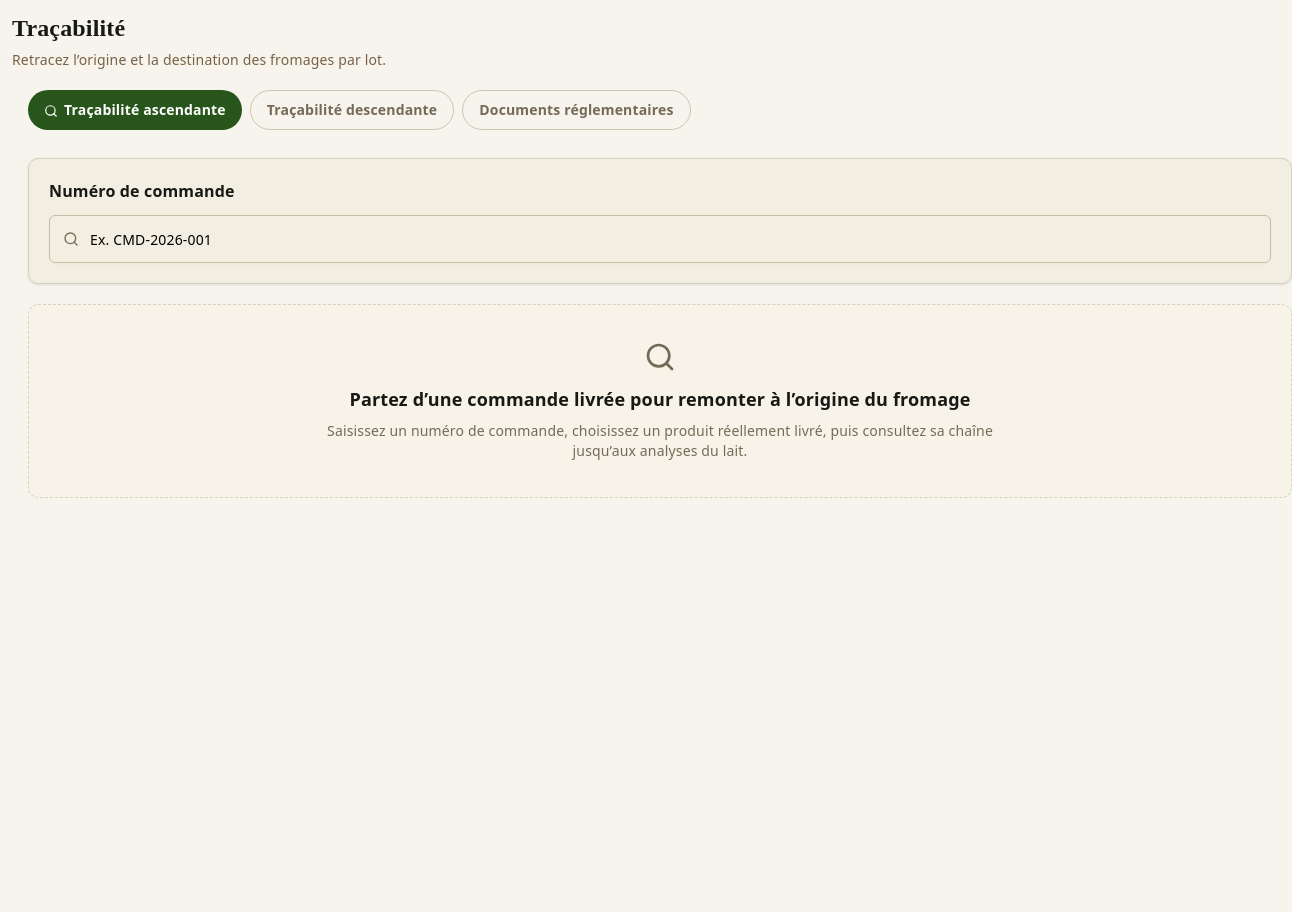
Test: recherche de traçabilité › réutilise la page pour rechercher un lot en traçabilité descendante
The width and height of the screenshot is (1292, 912).
Click the button "Traçabilité descendante": coordinates (352, 110) [250, 90, 454, 130]
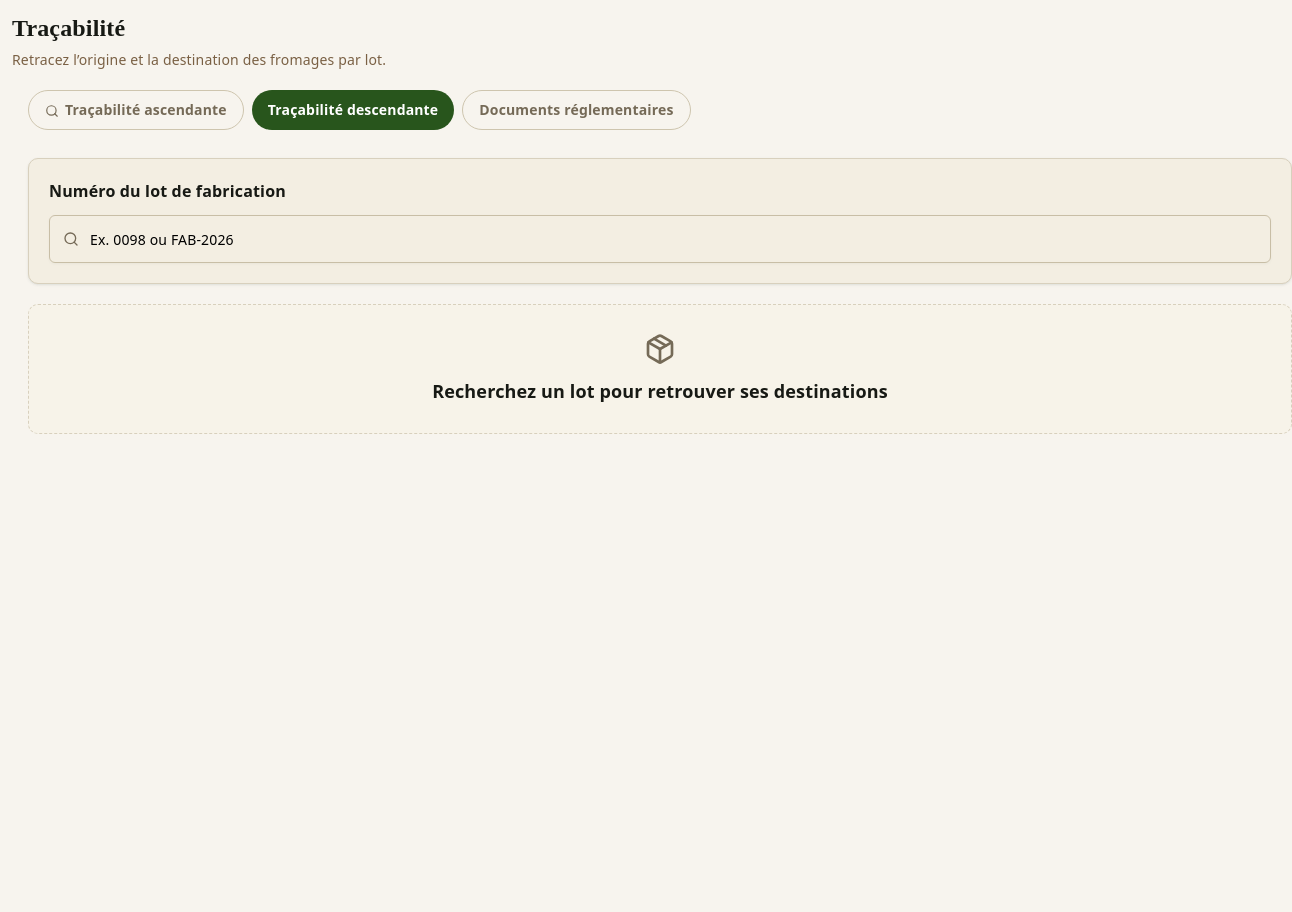
In the search field labelled "Numéro du lot de fabrication": coordinates (660, 239) [49, 215, 1271, 263], type "0098"
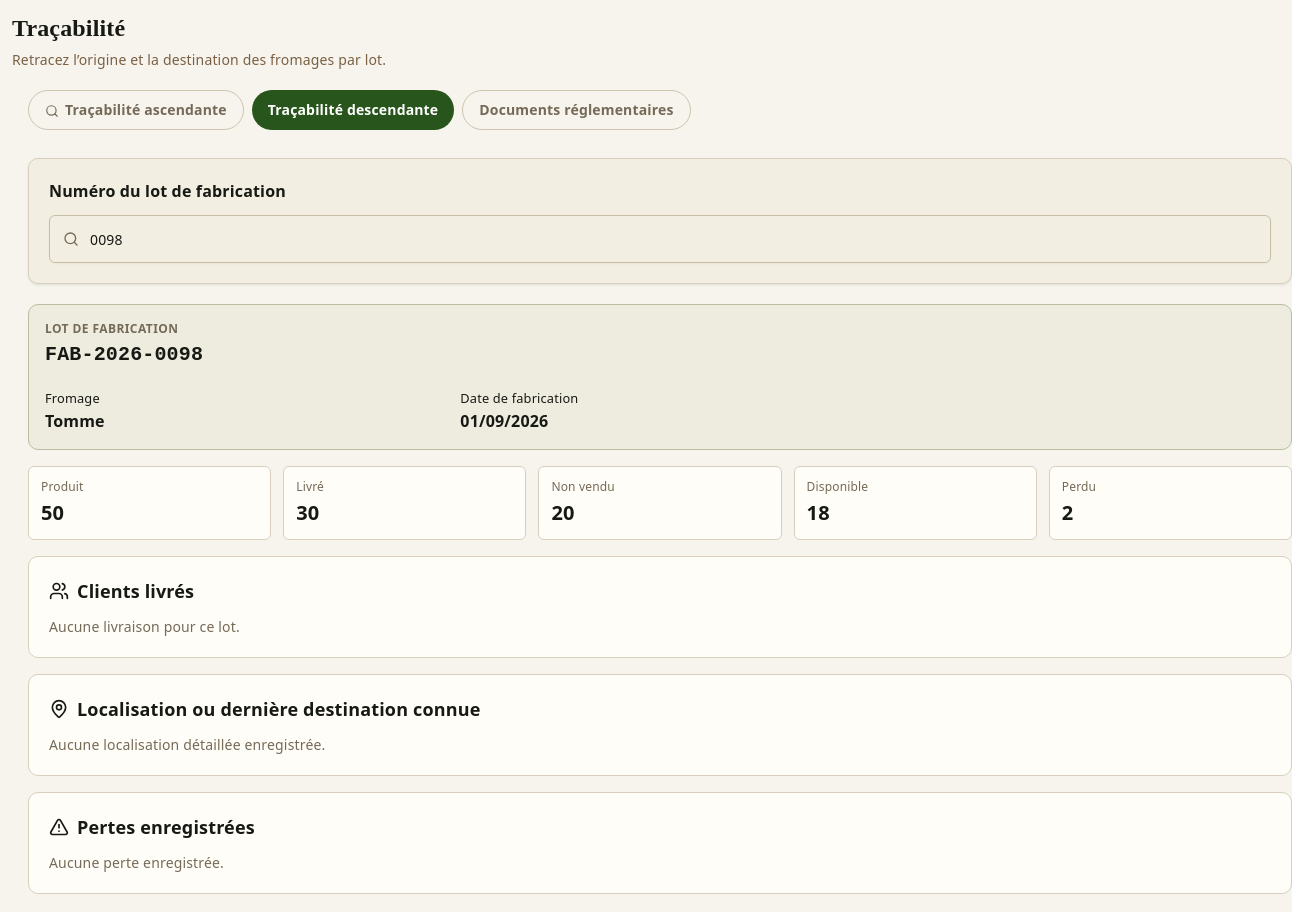
Result: the heading "FAB-2026-0098" is shown at [45, 343, 203, 366]
Result: the text "18" is shown at [807, 499, 830, 526]
